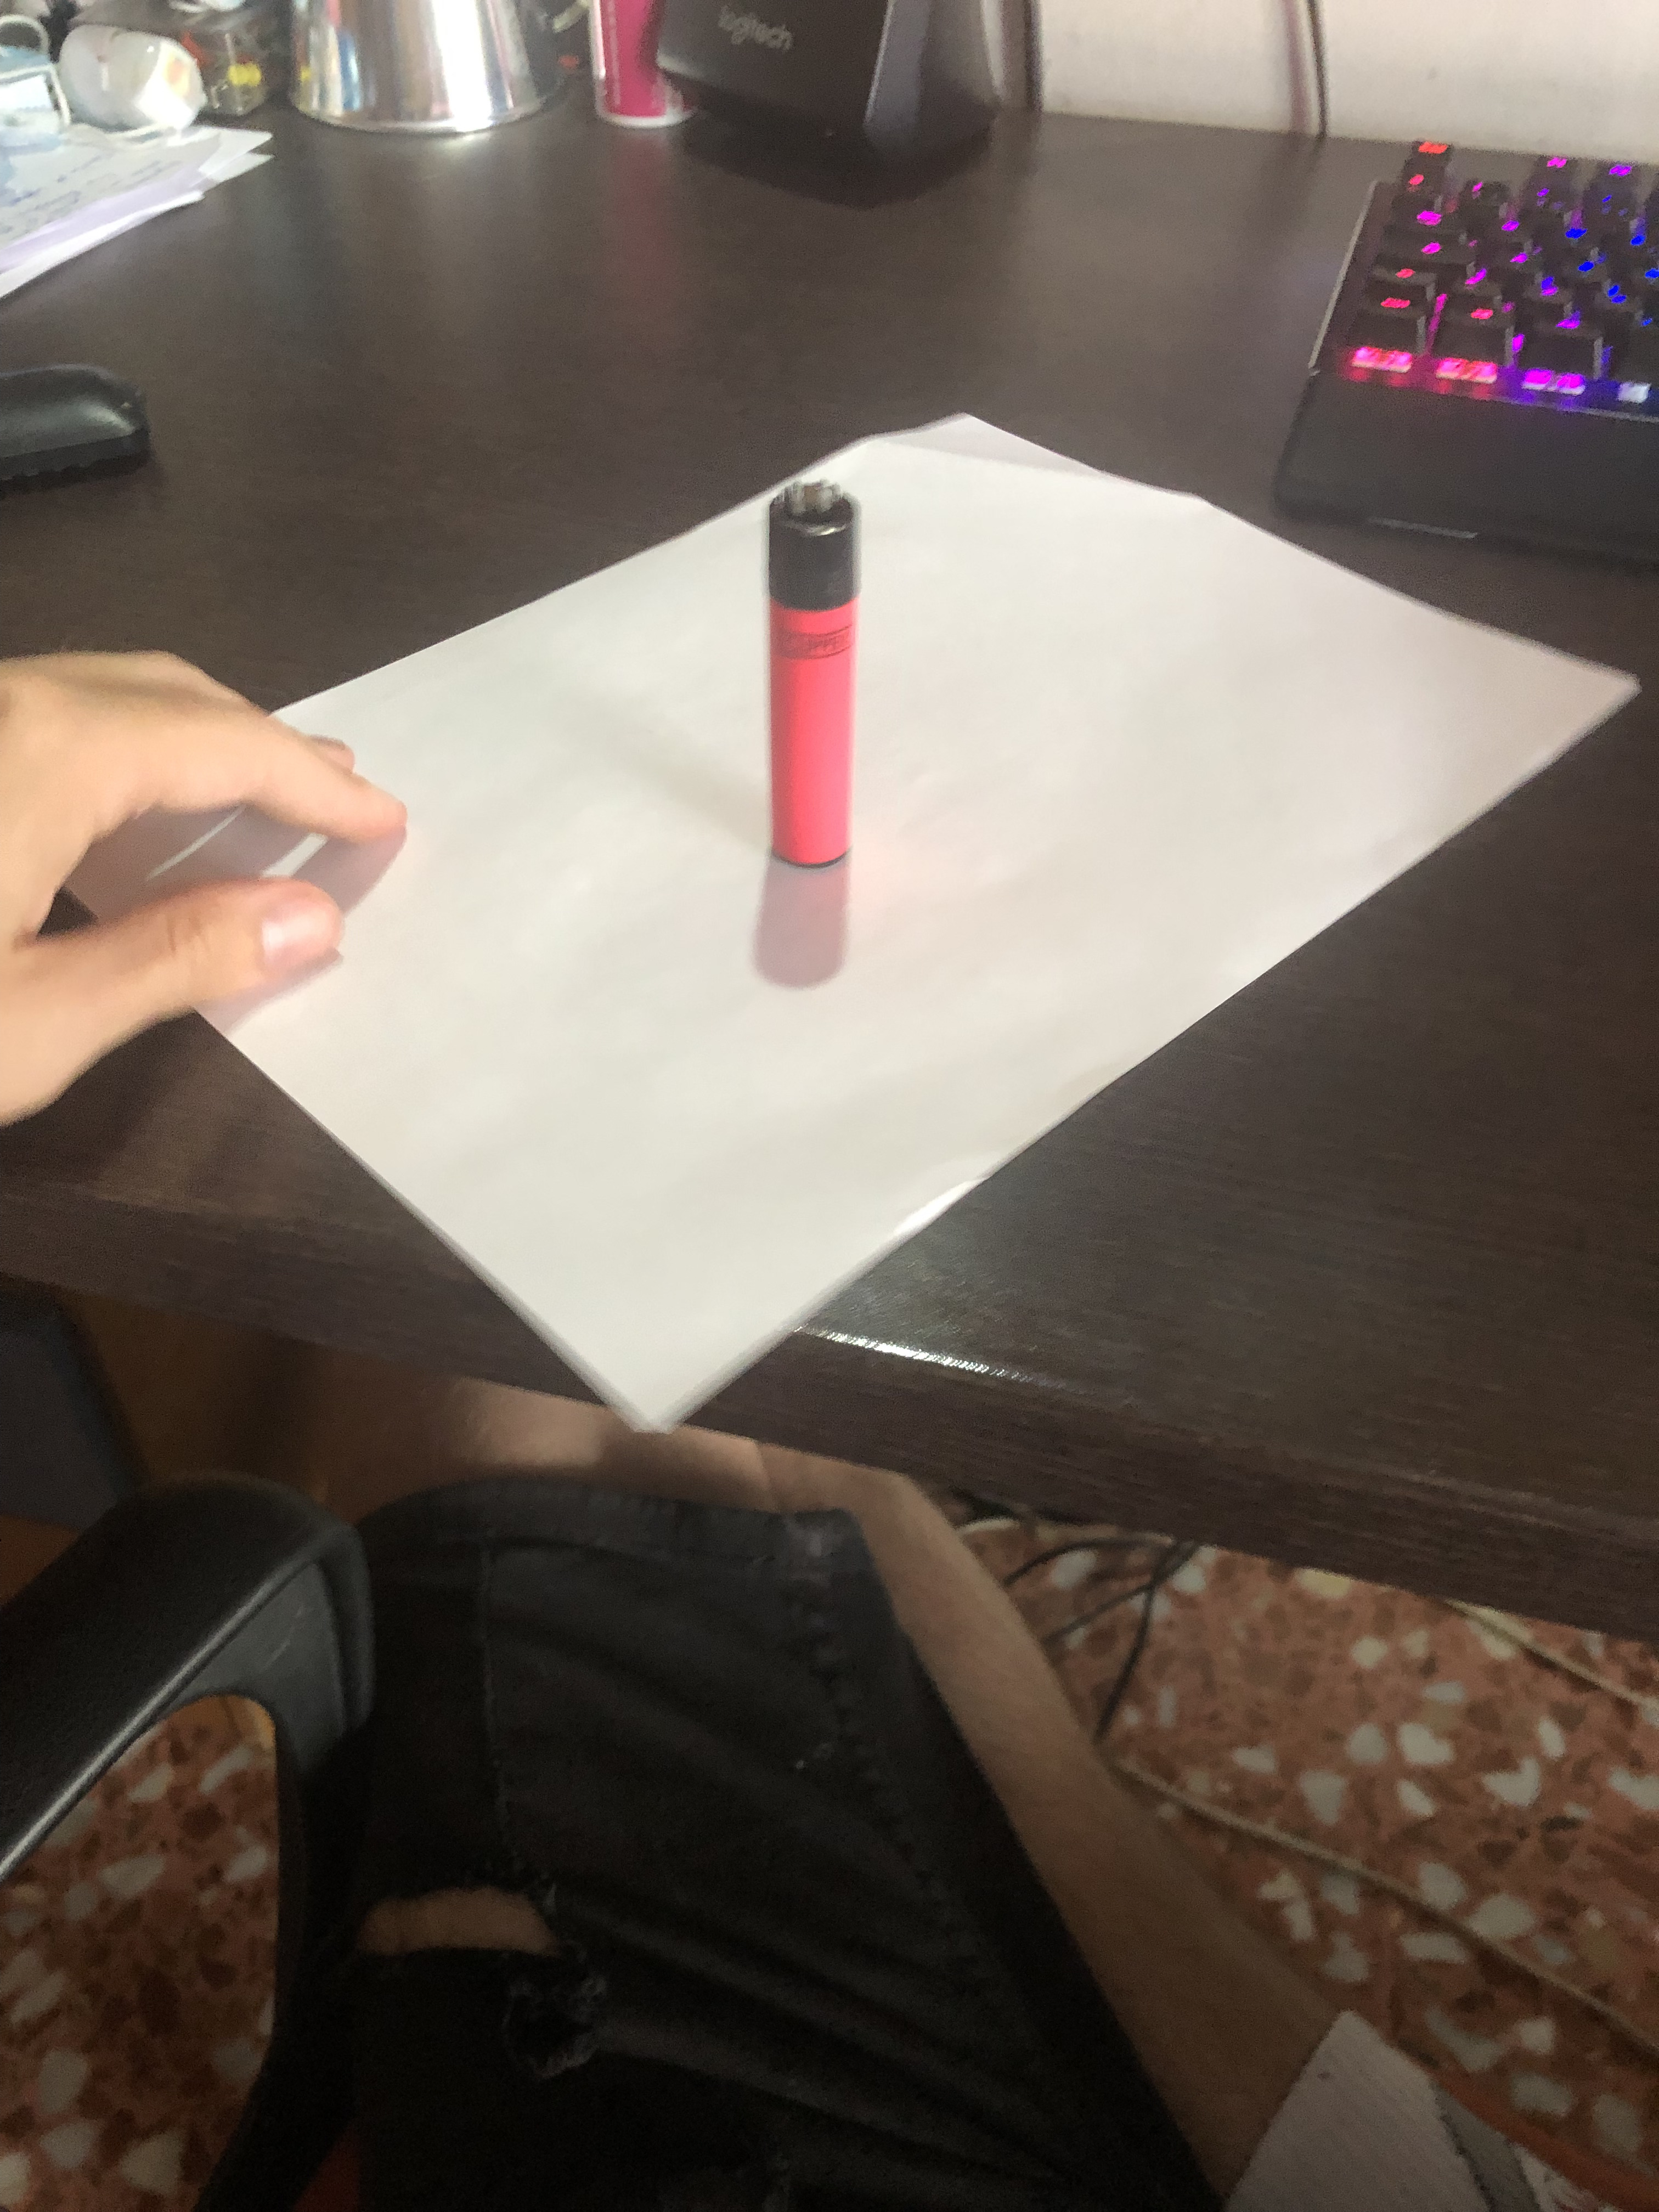Mechero: (734, 467, 866, 900)
